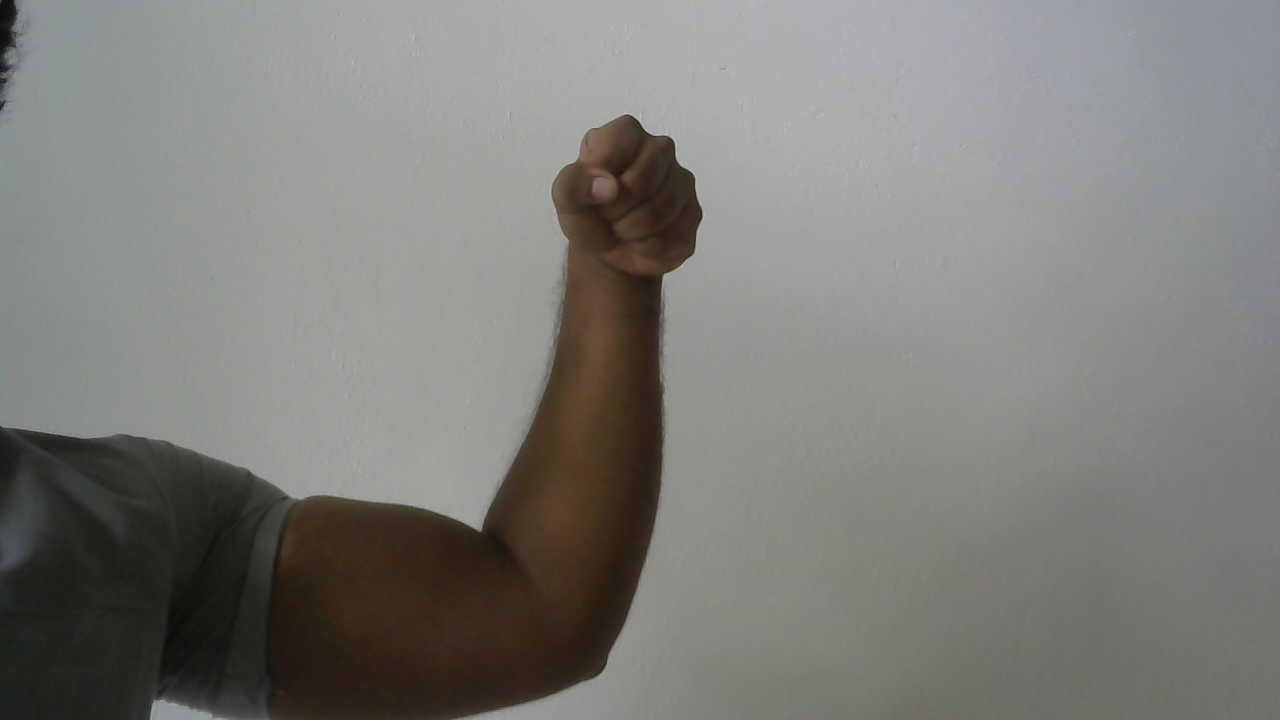yes: (517, 96, 719, 304)
